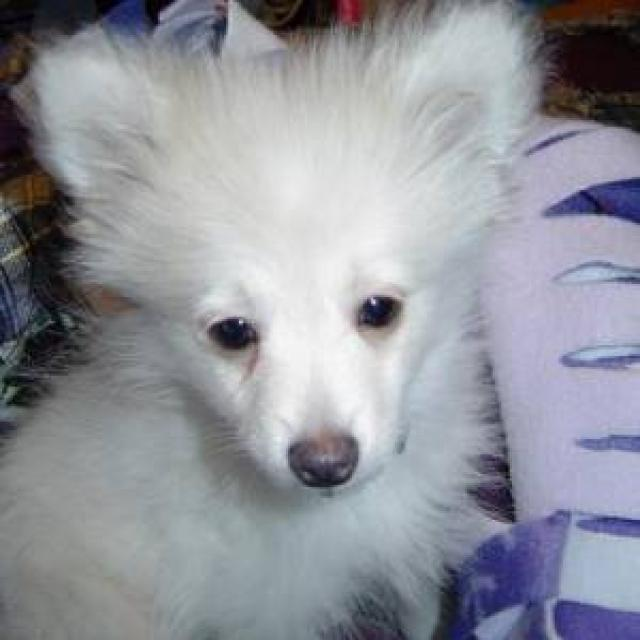dog-pomeranian: (2, 2, 529, 636)
